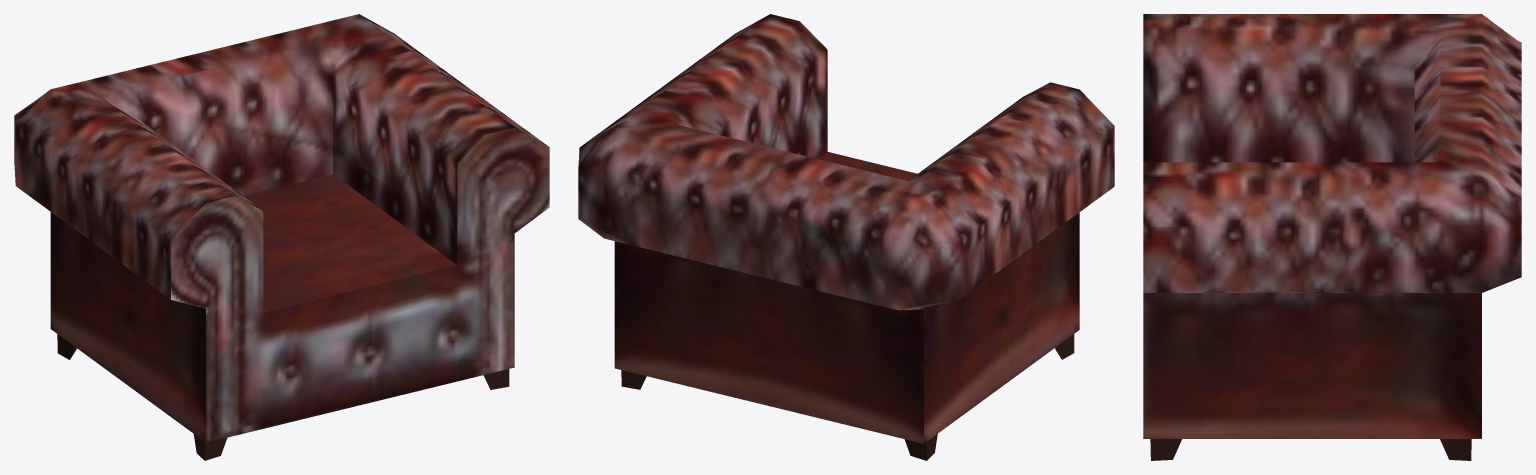
The model's file is Armchair_03-col.glb.
3 renders of one model, left to right at view 1: azimuth 30°, elevation 25°; view 2: azimuth 150°, elevation 25°; view 3: azimuth 270°, elevation 25°, orthographic. The views are drawn at different scales.
Visible parts, largest first — view 1: Armchair_03-col; view 2: Armchair_03-col; view 3: Armchair_03-col.
Part boxes in pixels (x1,y1,x2,y2): Armchair_03-col: (14, 14, 549, 460); Armchair_03-col: (578, 14, 1114, 460); Armchair_03-col: (1143, 14, 1521, 460).
Size of the model in its own units: 1.12 by 0.7397 by 0.8919.
Materials: 1 (1 with a texture image).
